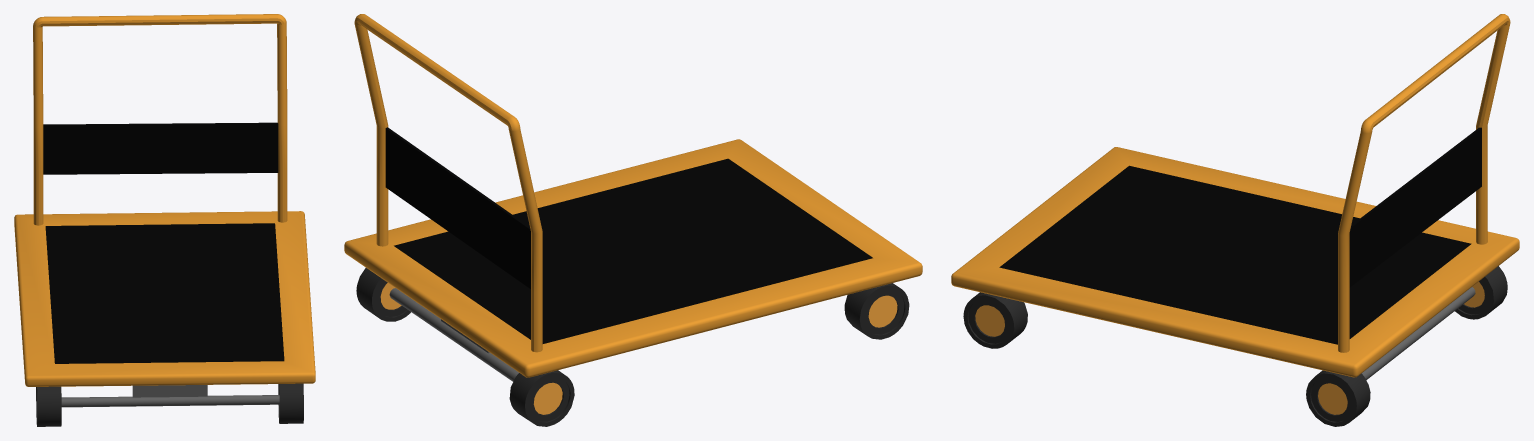
File: Push Cart.fbx
3 views of the same model, side by side, from view 1: azimuth 30°, elevation 25°; view 2: azimuth 150°, elevation 25°; view 3: azimuth 270°, elevation 25° (orthographic). The views are drawn at different scales.
Visible parts, largest first — view 1: Body, Wheel + Axle 1; view 2: Body, Wheel + Axle 2, Wheel + Axle 1; view 3: Body, Wheel + Axle 2, Wheel + Axle 1.
Part boxes in pixels (left/top/right/bottom): Body: left=14, top=14, right=315, bottom=386; Wheel + Axle 1: left=36, top=383, right=303, bottom=426; Body: left=344, top=14, right=922, bottom=377; Wheel + Axle 2: left=356, top=268, right=574, bottom=426; Wheel + Axle 1: left=844, top=283, right=909, bottom=339; Body: left=951, top=14, right=1519, bottom=377; Wheel + Axle 2: left=1306, top=266, right=1507, bottom=426; Wheel + Axle 1: left=963, top=292, right=1027, bottom=348.
Size of the model in its own units: 1806 by 1174 by 1968.
